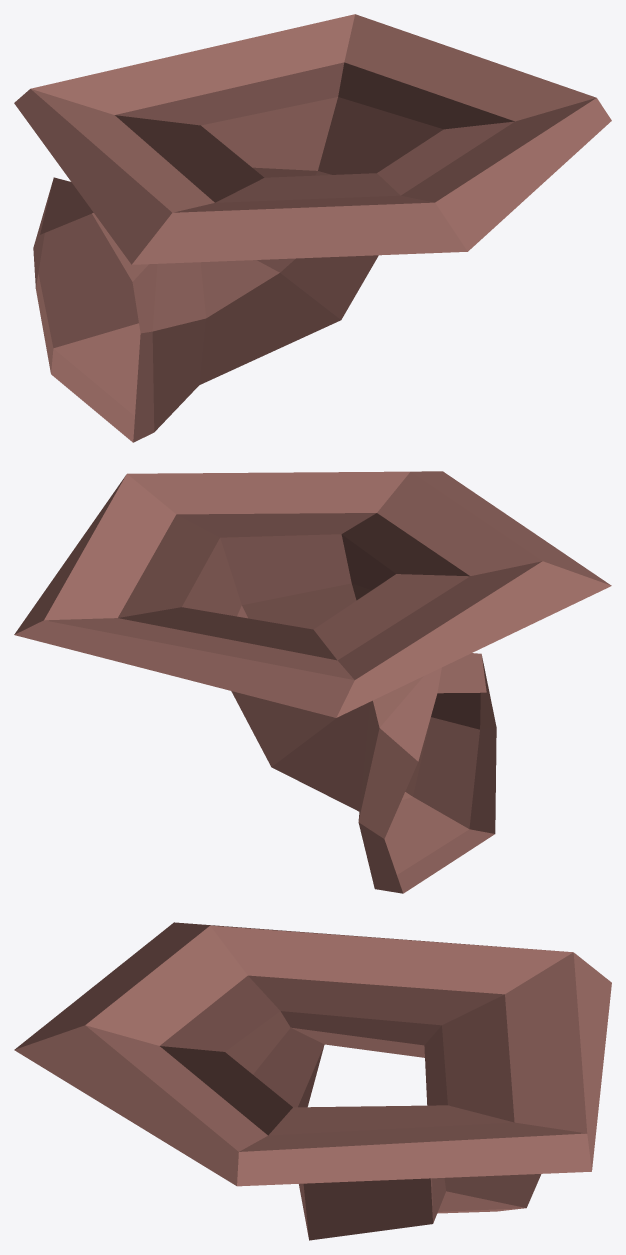
The model's file is Tunnel-F04.fbx.
The picture shows the model from 3 angles, top to bottom: view 1: azimuth 30°, elevation 25°; view 2: azimuth 150°, elevation 25°; view 3: azimuth 270°, elevation 25°; orthographic projection. The views are drawn at different scales.
Parts seen in each view (by area): view 1: Tunnel-F04; view 2: Tunnel-F04; view 3: Tunnel-F04.
Boxes of the visible parts, x1=… form: Tunnel-F04: x1=14, y1=14, x2=611, y2=442; Tunnel-F04: x1=14, y1=471, x2=611, y2=893; Tunnel-F04: x1=14, y1=922, x2=611, y2=1240.
Size of the model in its own units: 1128 by 569 by 1090.
